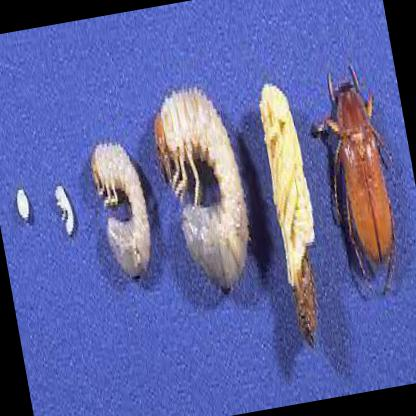root grubs: (154, 85, 248, 293), (90, 138, 153, 273)
